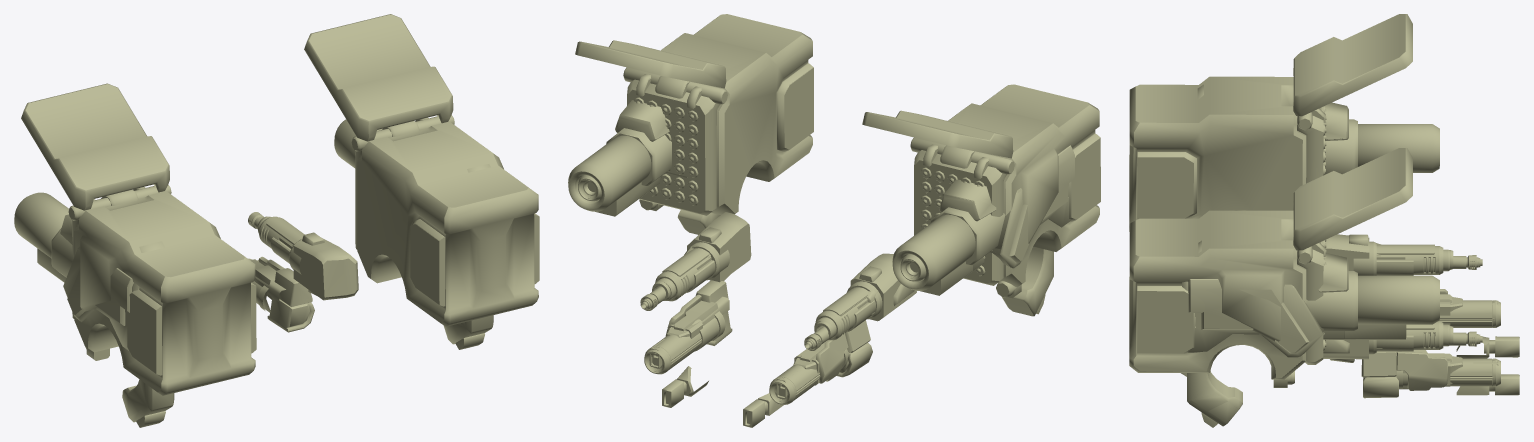
File: CatapultWeapons.glb
The picture shows the model from 3 angles, left to right: view 1: azimuth 30°, elevation 25°; view 2: azimuth 150°, elevation 25°; view 3: azimuth 270°, elevation 25°; orthographic projection. The views are drawn at different scales.
Parts seen in each view (by area): view 1: Upperarm_Left_MH1_Blank, Upperarm_Right_MH1_Missile9, Upperarm_Right_MH1_Blank, Upperarm_Left_EH1_Blank, Torso_Right_BH1_AC20, Upperarm_Left_EH1_PPC, Torso_Right_EH1_Laser, Torso_Right_EH1_PPC, Upperarm_Left_EH1_Laser, Torso_Right_BH1_MG, Upperarm_Right_EH1_Laser, Upperarm_Left_EH1_Flamer (+2 smaller); view 2: Upperarm_Left_MH1_Blank, Upperarm_Right_MH1_Blank, Upperarm_Right_MH1_Missile9, Upperarm_Right_EH1_PPC, Upperarm_Left_EH1_PPC, Upperarm_Left_EH1_Blank, Torso_Right_EH1_PPC, Upperarm_Left_EH1_Laser, Torso_Left_EH1_PPC, Torso_Left_BH1_AC20, Upperarm_Right_EH1_Flamer, Torso_Right_BH1_AC20 (+13 smaller); view 3: Upperarm_Left_MH1_Blank, Upperarm_Right_MH1_Missile9, Upperarm_Right_EH1_Laser, Upperarm_Right_EH1_PPC, Upperarm_Right_EH1_Flamer, Torso_Left_BH1_AC20, Torso_Right_EH1_Laser, Upperarm_Left_EH1_PPC, Torso_Right_BH1_AC20, Torso_Right_EH1_PPC, Torso_Left_EH1_PPC, Upperarm_Right_EH1_Blank (+9 smaller).
Part boxes in pixels (x1,y1,x2,y2): Upperarm_Left_MH1_Blank: [21, 83, 256, 395]; Upperarm_Right_MH1_Missile9: [307, 14, 539, 322]; Upperarm_Right_MH1_Blank: [304, 42, 539, 326]; Upperarm_Left_EH1_Blank: [60, 219, 174, 427]; Torso_Right_BH1_AC20: [258, 216, 358, 300]; Upperarm_Left_EH1_PPC: [14, 192, 172, 417]; Torso_Right_EH1_Laser: [250, 256, 314, 332]; Torso_Right_EH1_PPC: [252, 257, 311, 330]; Upperarm_Left_EH1_Laser: [60, 214, 164, 427]; Torso_Right_BH1_MG: [292, 235, 324, 300]; Upperarm_Right_EH1_Laser: [443, 315, 492, 349]; Upperarm_Left_EH1_Flamer: [51, 218, 126, 349]; Upperarm_Left_MH1_Blank: [862, 84, 1100, 298]; Upperarm_Right_MH1_Blank: [575, 41, 813, 215]; Upperarm_Right_MH1_Missile9: [575, 14, 813, 205]; Upperarm_Right_EH1_PPC: [568, 122, 700, 221]; Upperarm_Left_EH1_PPC: [892, 146, 1074, 295]; Upperarm_Left_EH1_Blank: [939, 145, 1074, 289]; Torso_Right_EH1_PPC: [644, 281, 732, 374]; Upperarm_Left_EH1_Laser: [944, 179, 1053, 316]; Torso_Left_EH1_PPC: [769, 320, 872, 404]; Torso_Left_BH1_AC20: [814, 253, 903, 340]; Upperarm_Right_EH1_Flamer: [606, 100, 702, 220]; Torso_Right_BH1_AC20: [655, 242, 729, 301]; Upperarm_Left_MH1_Blank: [1129, 14, 1412, 231]; Upperarm_Right_MH1_Missile9: [1129, 148, 1412, 386]; Upperarm_Right_EH1_Laser: [1181, 252, 1348, 425]; Upperarm_Right_EH1_PPC: [1190, 275, 1439, 427]; Upperarm_Right_EH1_Flamer: [1191, 240, 1357, 424]; Torso_Left_BH1_AC20: [1325, 234, 1449, 275]; Torso_Right_EH1_Laser: [1361, 350, 1449, 398]; Upperarm_Left_EH1_PPC: [1203, 85, 1439, 172]; Torso_Right_BH1_AC20: [1325, 321, 1449, 360]; Torso_Right_EH1_PPC: [1396, 351, 1500, 388]; Torso_Left_EH1_PPC: [1439, 289, 1500, 327]; Upperarm_Right_EH1_Blank: [1182, 279, 1344, 426].
Size of the model in its own units: 1.72 by 1.2 by 1.54.
